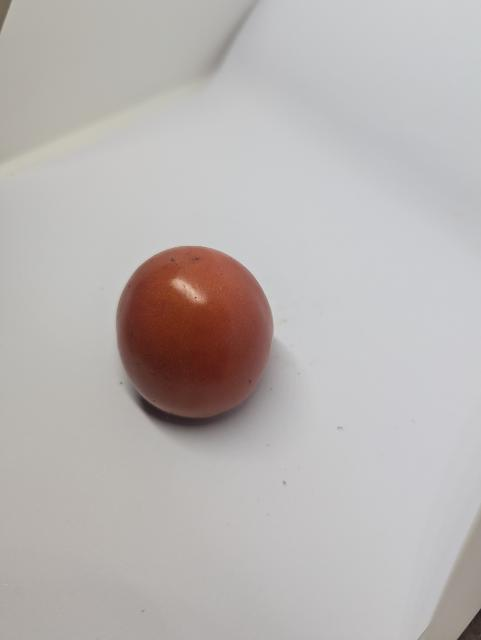red: (112, 240, 279, 430)
